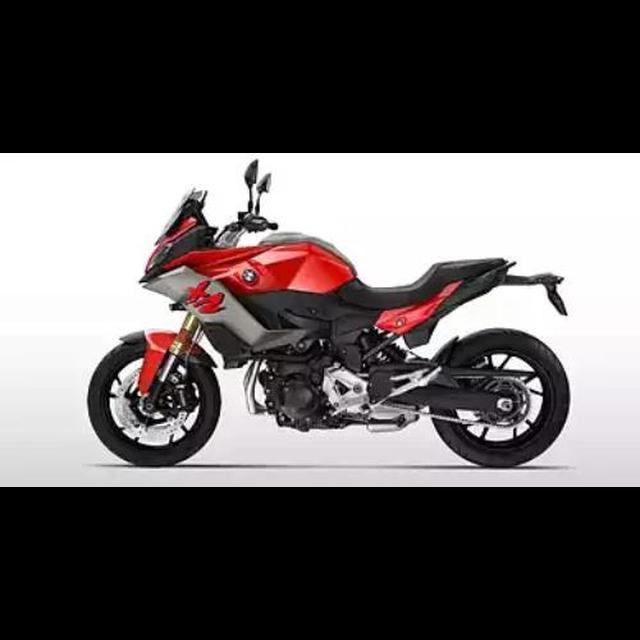motorcycle: (81, 153, 576, 472)
